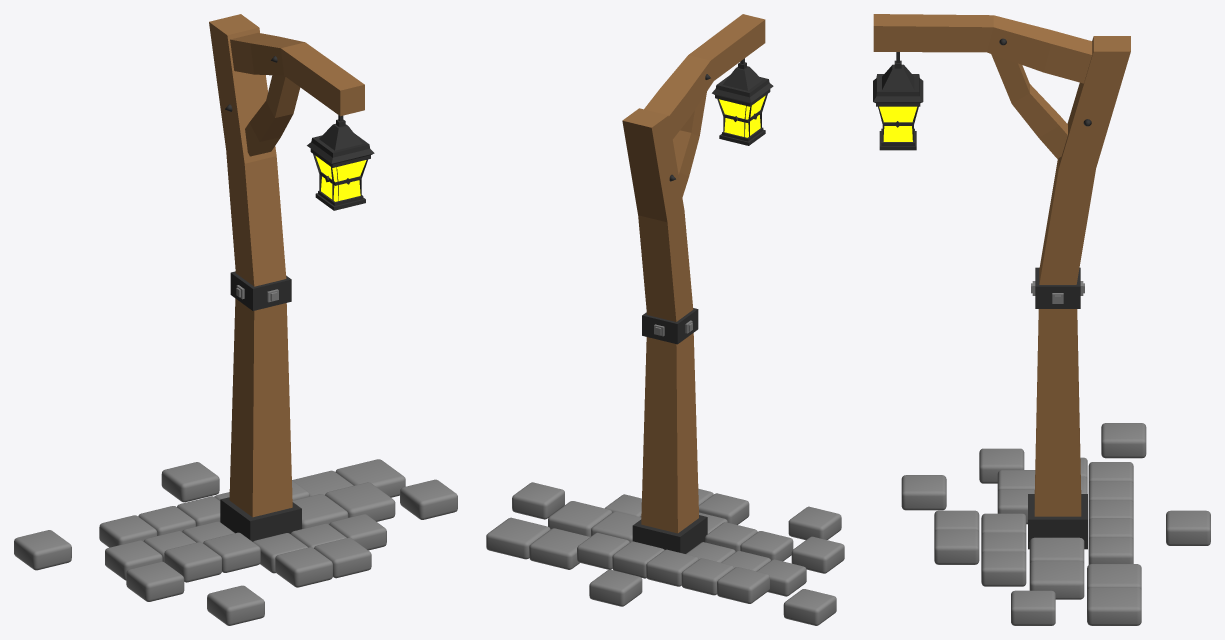
File: PFE-Props-Lanterene.fbx
The picture shows the model from 3 angles, left to right: view 1: azimuth 30°, elevation 25°; view 2: azimuth 150°, elevation 25°; view 3: azimuth 270°, elevation 25°; orthographic projection. The views are drawn at different scales.
Parts seen in each view (by area): view 1: Cube.013; view 2: Cube.013; view 3: Cube.013.
Part boxes in pixels (x1=…): Cube.013: x1=14, y1=14, x2=457, y2=625; Cube.013: x1=486, y1=14, x2=844, y2=625; Cube.013: x1=873, y1=14, x2=1210, y2=625.
Bounding box in the file's own units: 259 × 342 × 198.
